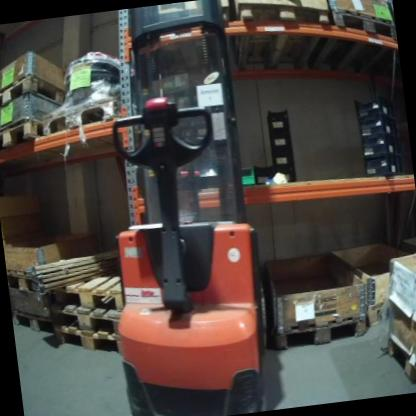pallet: (303, 2, 398, 82), (271, 315, 368, 351), (41, 96, 128, 135), (52, 298, 122, 342), (53, 278, 125, 320), (54, 319, 124, 362), (0, 70, 68, 113), (0, 112, 53, 153), (384, 328, 416, 394), (11, 304, 55, 340), (6, 263, 48, 297), (326, 0, 389, 10), (366, 306, 393, 324)
pallet_truck: (78, 0, 276, 416)
small_load_carrier: (353, 94, 396, 120), (359, 118, 399, 143), (362, 132, 398, 157), (365, 155, 404, 177)
